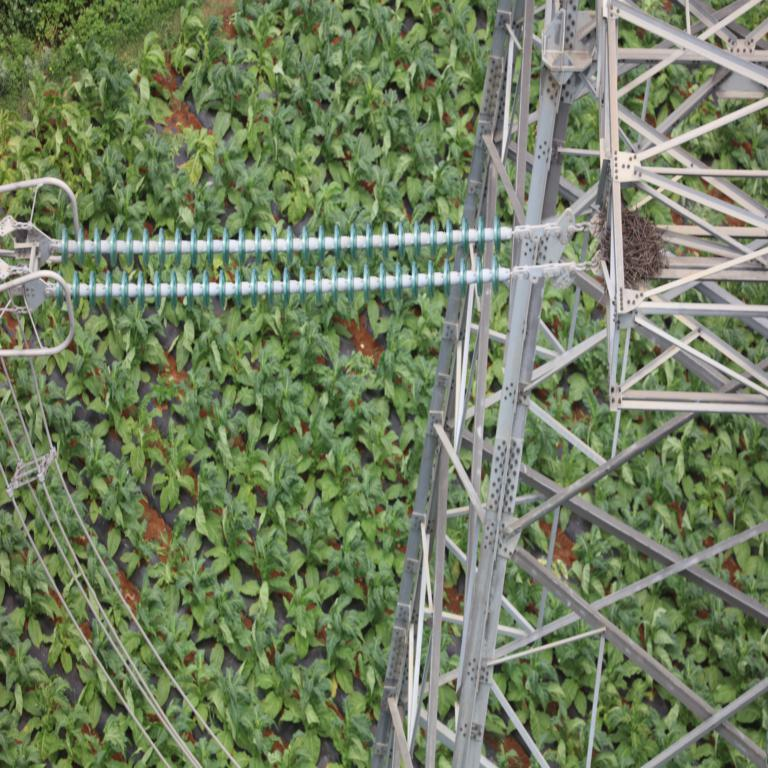nest: (597, 208, 664, 284)
